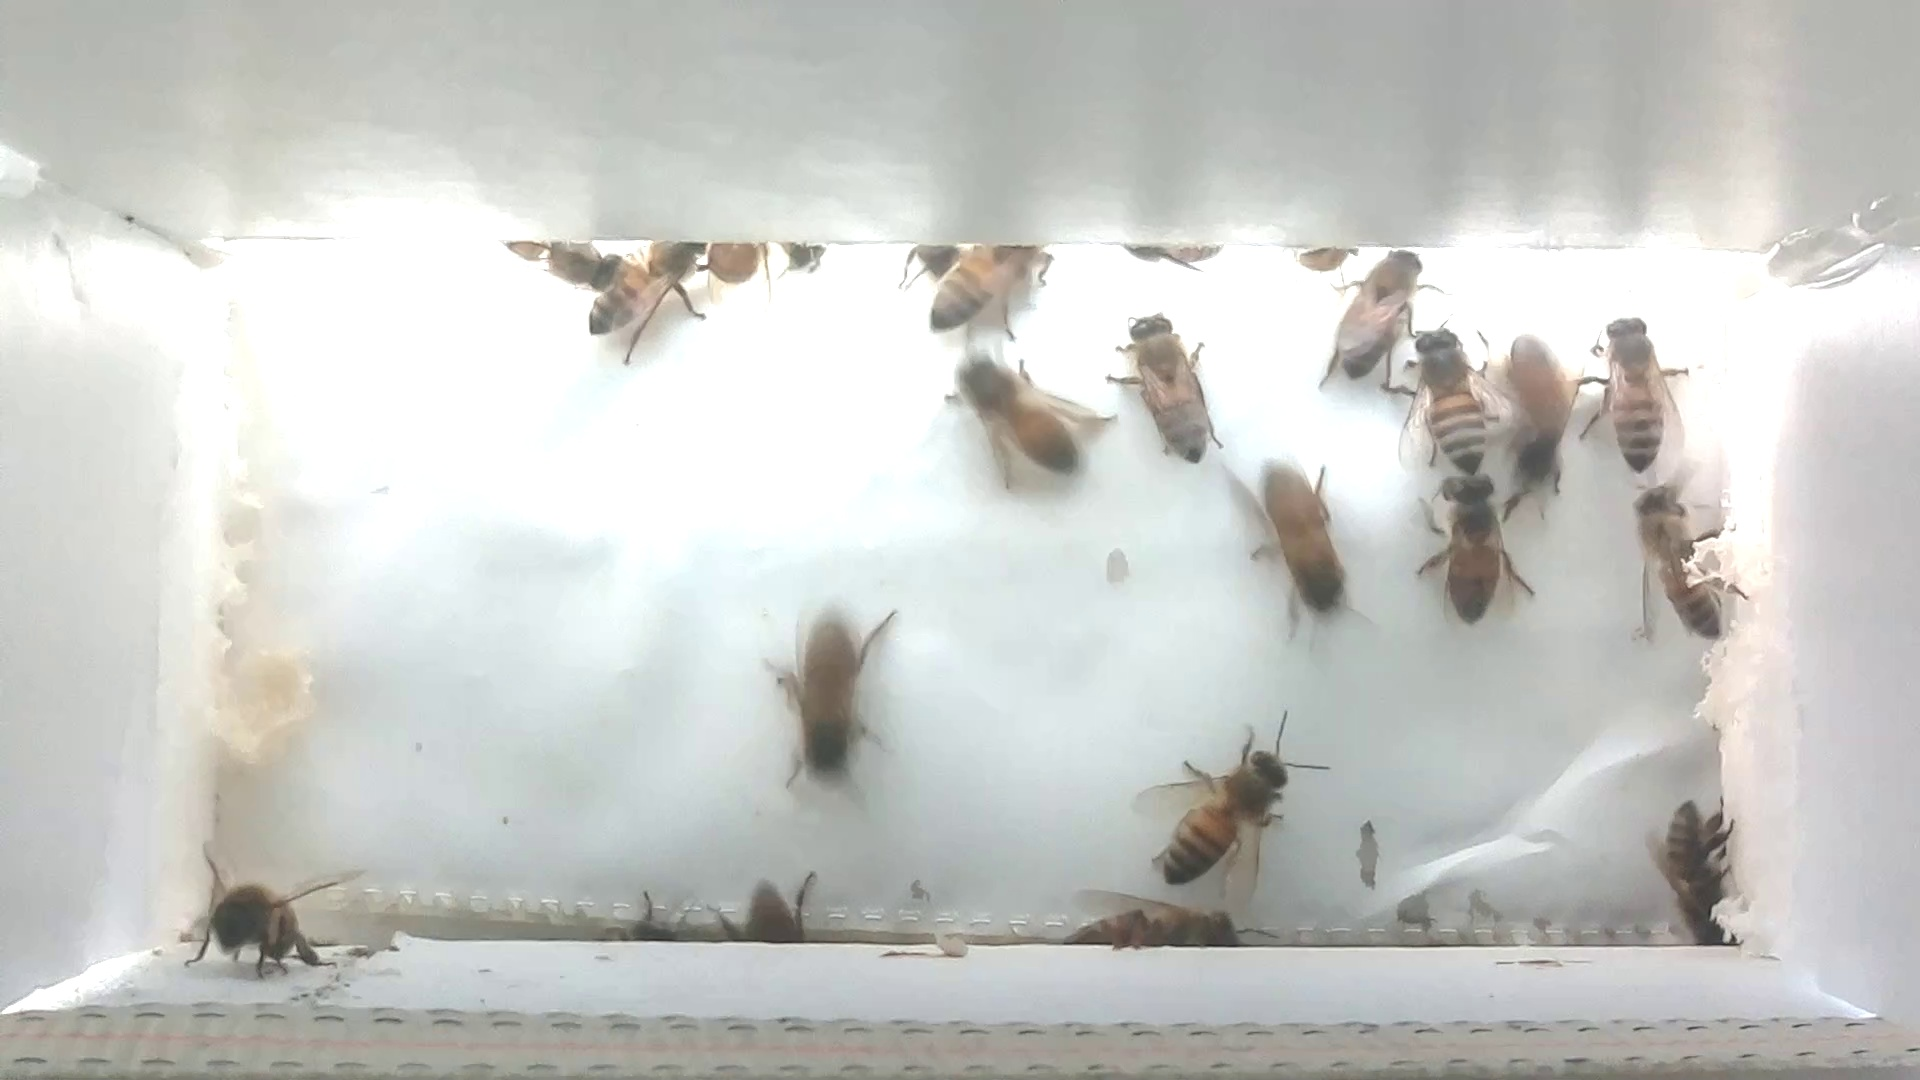bee: (1127, 702, 1335, 895), (754, 593, 899, 808), (930, 334, 1114, 496), (177, 837, 343, 993), (1615, 469, 1758, 649), (1230, 444, 1367, 622), (1100, 311, 1240, 481), (1623, 777, 1749, 953), (1406, 463, 1538, 628), (1577, 305, 1693, 489), (1311, 229, 1429, 405), (1398, 316, 1524, 480), (1495, 324, 1596, 524), (1055, 880, 1286, 964), (574, 222, 708, 359), (920, 225, 1073, 345), (698, 851, 829, 963), (488, 223, 626, 295), (699, 225, 833, 295)
